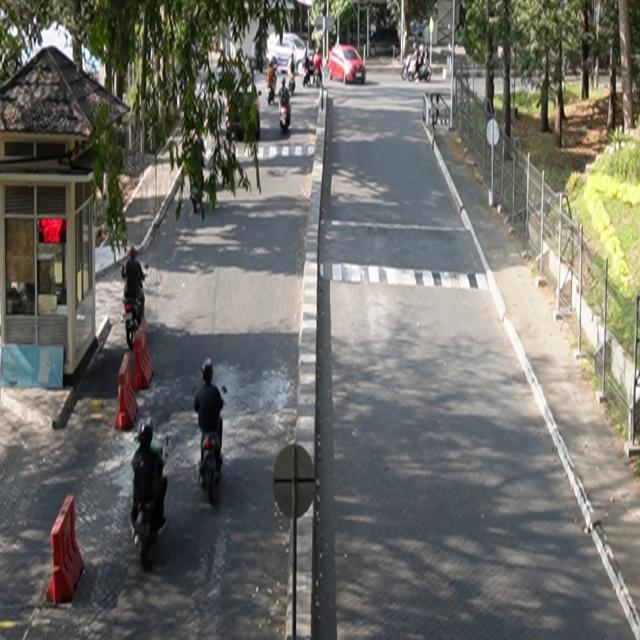car: (329, 44, 367, 85)
